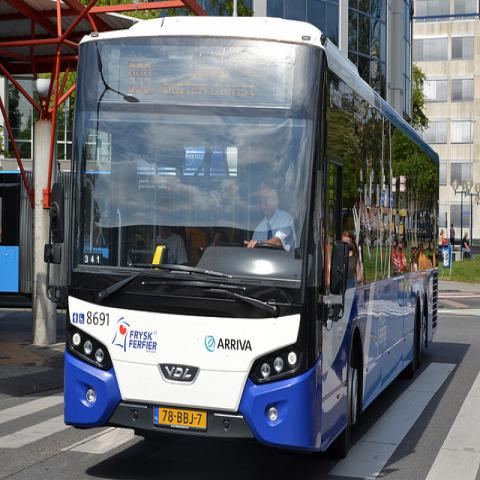bus: (60, 13, 441, 462)
